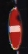No entry: (6, 6, 22, 48)
